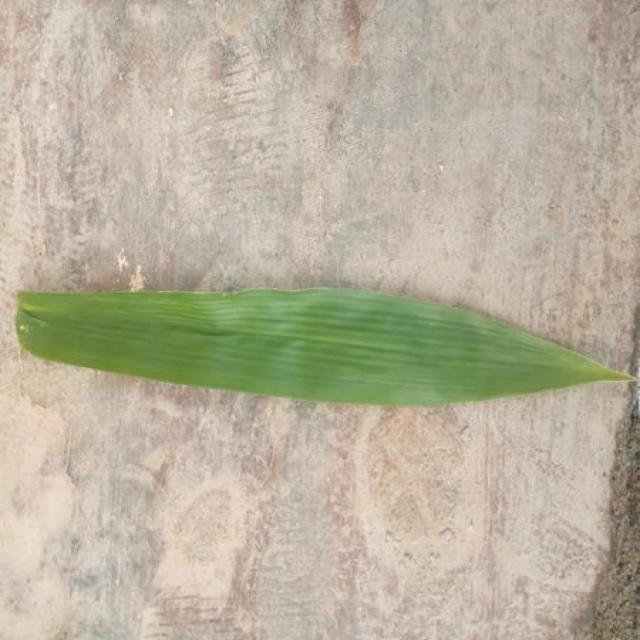Bamboo: (18, 288, 630, 404)
